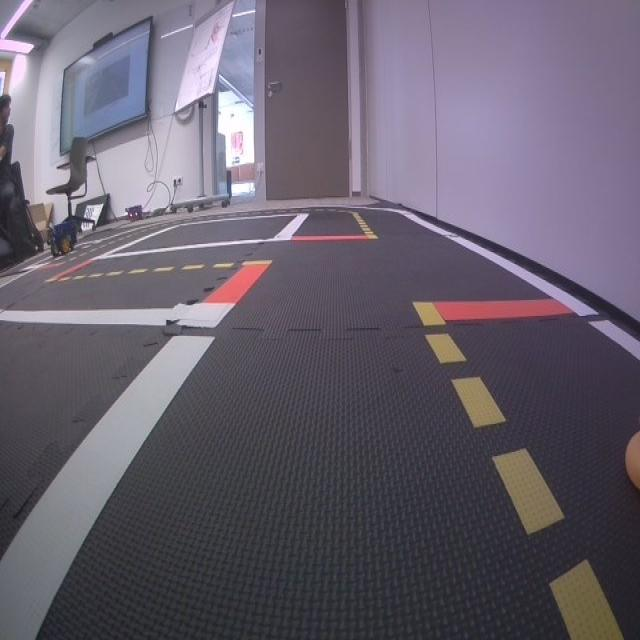bot: (48, 223, 77, 253)
duckie: (623, 430, 640, 494)
